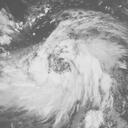cyclone: (37, 40, 102, 111)
